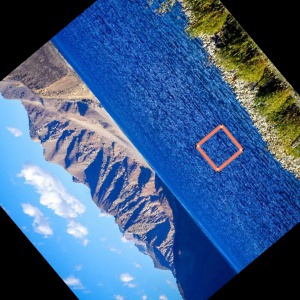square: (192, 121, 247, 174)
